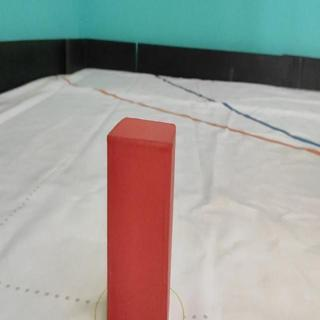redbox: (107, 116, 176, 320)
